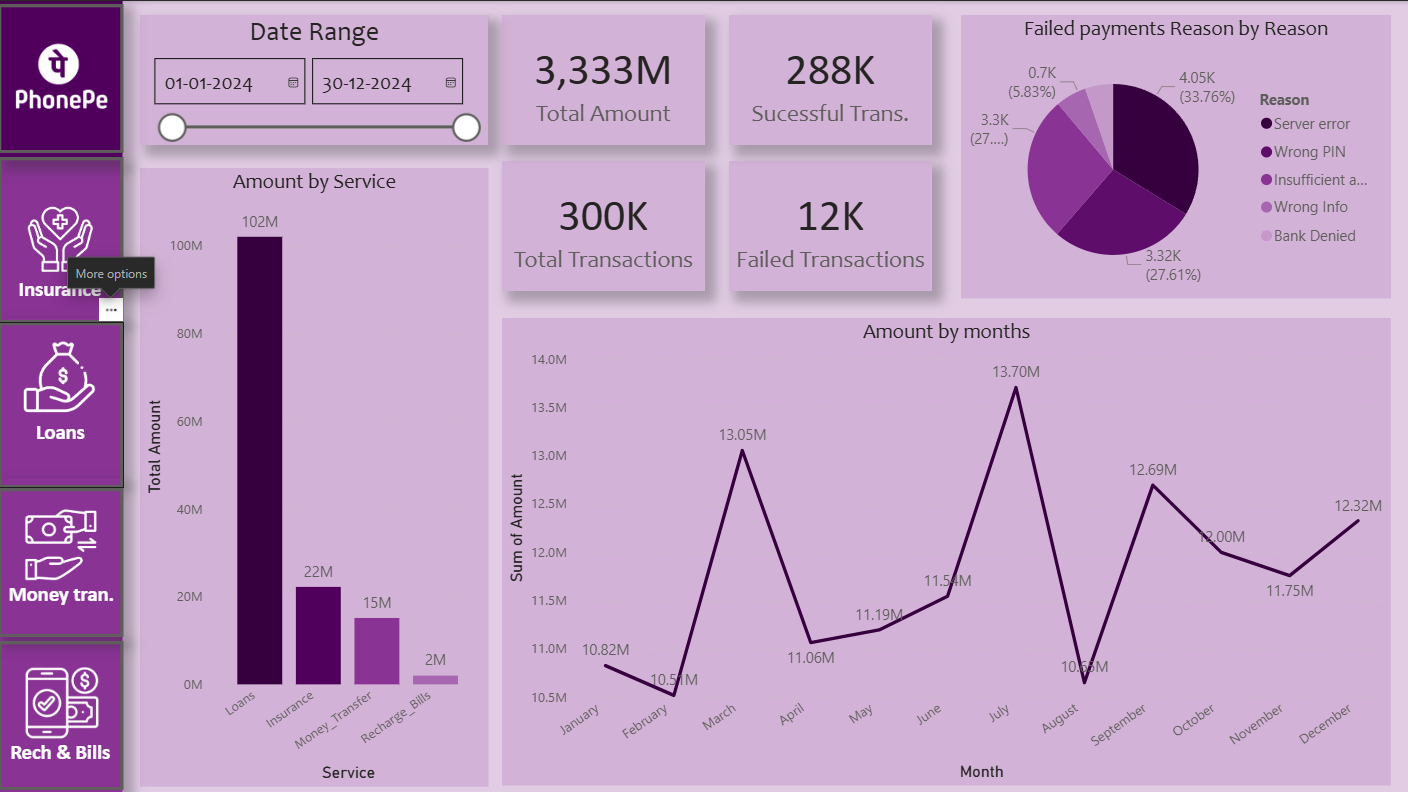

The dashboard page shown, as its layout file describes it:
{"tool":"powerbi","page":{"name":"Insurance","canvas":[1280,720],"ordinal":1},"visuals":[{"type":"shape","box":[0,0,113.1,144.1],"z":0,"group":"g1"},{"type":"shape","box":[0,576.4,113.1,144.1],"z":0},{"type":"image","box":[7.7,0,100,140],"z":1000,"group":"g1"},{"type":"shape","box":[0,144.1,113.1,144.1],"z":1000},{"type":"image","box":[15,585.1,86.6,102.8],"z":2000},{"type":"image","box":[15.3,164.8,82.4,101.6],"z":3000},{"type":"shape","box":[0,287.4,113.1,145.6],"z":4000},{"type":"textbox","box":[0,664.5,112.9,46.2],"z":5000},{"type":"image","box":[15.1,289.2,82.8,101.1],"z":6000},{"type":"shape","box":[0,432.3,113.1,144.1],"z":7000},{"type":"image","box":[15.1,441.9,82.8,102.2],"z":8000},{"type":"textbox","box":[0,244.9,112.2,46.9],"z":9000},{"type":"textbox","box":[0,374.2,112.9,46.2],"z":10000},{"type":"textbox","box":[1.1,521.5,112.9,45.2],"z":11000},{"type":"slicer","title":"Date Range","fields":{"Values":["Recharge_Bills.Date"]},"box":[128.6,12.2,316.3,118.4],"z":12000},{"type":"card","title":"Total Amount","fields":{"Values":["Sum(Insurance.Premium)"]},"box":[129.2,138.5,316.9,118.5],"z":13000},{"type":"pieChart","title":"Failed payments by Reason","fields":{"Category":["Insurance.Reason"],"Y":["CountNonNull(Insurance.Reason)"]},"box":[858.2,7.4,421.8,255],"z":14000},{"type":"areaChart","title":"Amount by months","fields":{"Category":["Insurance.Date.Variation.Date Hierarchy.Month"],"Y":["Sum(Insurance.Premium)"]},"box":[858.2,286.9,404.6,424.2],"z":15000},{"type":"group","id":"g1","title":"Group 1","box":[0,0,113.1,144.1],"z":16000},{"type":"actionButton","box":[0,139.1,114.5,150.7],"z":17000},{"type":"actionButton","box":[0,290.8,113.8,150.8],"z":18000},{"type":"actionButton","box":[0,441.5,113.8,135.4],"z":19000},{"type":"actionButton","box":[0,580,113.8,135.4],"z":20000},{"type":"actionButton","box":[0,1.4,114.5,136.2],"z":21000},{"type":"pieChart","title":"Payment Status","fields":{"Category":["Insurance.Payment_Status"],"Y":["CountNonNull(Insurance.Payment_Status)"]},"box":[456.1,12.3,385,245.2],"z":22000},{"type":"clusteredBarChart","title":"Amount by months","fields":{"Y":["Sum(Insurance.Premium)"],"Category":["Insurance.Insurance_Type"]},"box":[456.1,316.3,385,394.8],"z":23000},{"type":"image","box":[314.3,330,145.7,71.4],"z":24000},{"type":"image","box":[327.1,424.3,118.6,74.3],"z":25000},{"type":"image","box":[340.6,610.1,94.2,94.2],"z":26000},{"type":"image","box":[340,514.3,94.3,97.1],"z":27000},{"type":"textbox","box":[128.6,281,211.1,69.8],"z":28000},{"type":"card","title":"Total Amount","fields":{"Values":["Sum(Insurance.Premium)"]},"box":[147.6,334.9,166.7,63.5],"z":29000},{"type":"card","title":"Total Amount","fields":{"Values":["Sum(Insurance.Premium)"]},"box":[147.6,430.2,166.7,63.5],"z":30000},{"type":"card","title":"Total Amount","fields":{"Values":["Sum(Insurance.Premium)"]},"box":[147.6,534.9,166.7,63.5],"z":31000},{"type":"card","title":"Total Amount","fields":{"Values":["Sum(Insurance.Premium)"]},"box":[147.6,625.4,166.7,63.5],"z":32000},{"type":"textbox","box":[460,273.3,300,57.8],"z":33000},{"type":"textbox","box":[352.2,394.2,82.6,30.4],"z":34000},{"type":"textbox","box":[344.9,494.2,82.6,30.4],"z":35000},{"type":"textbox","box":[344.9,598.6,82.6,30.4],"z":36000},{"type":"textbox","box":[344.9,688.4,82.6,30.4],"z":37000}]}

Visuals, with their boxes on the page's 1280x720 design canvas (x1, y1, x2, y2). These are canvas units, not pixel positions in the 1408x792 screenshot, which may show the page scaled, cropped or inside an application window:
shape: (x1=0, y1=0, x2=113, y2=144)
shape: (x1=0, y1=576, x2=113, y2=720)
image: (x1=8, y1=0, x2=108, y2=140)
shape: (x1=0, y1=144, x2=113, y2=288)
image: (x1=15, y1=585, x2=102, y2=688)
image: (x1=15, y1=165, x2=98, y2=266)
shape: (x1=0, y1=287, x2=113, y2=433)
textbox: (x1=0, y1=664, x2=113, y2=711)
image: (x1=15, y1=289, x2=98, y2=390)
shape: (x1=0, y1=432, x2=113, y2=576)
image: (x1=15, y1=442, x2=98, y2=544)
textbox: (x1=0, y1=245, x2=112, y2=292)
textbox: (x1=0, y1=374, x2=113, y2=420)
textbox: (x1=1, y1=522, x2=114, y2=567)
"Date Range" slicer: (x1=129, y1=12, x2=445, y2=131)
"Total Amount" card: (x1=129, y1=138, x2=446, y2=257)
"Failed payments by Reason" pieChart: (x1=858, y1=7, x2=1280, y2=262)
"Amount by months" areaChart: (x1=858, y1=287, x2=1263, y2=711)
"Group 1" group: (x1=0, y1=0, x2=113, y2=144)
actionButton: (x1=0, y1=139, x2=114, y2=290)
actionButton: (x1=0, y1=291, x2=114, y2=442)
actionButton: (x1=0, y1=442, x2=114, y2=577)
actionButton: (x1=0, y1=580, x2=114, y2=715)
actionButton: (x1=0, y1=1, x2=114, y2=138)
"Payment Status" pieChart: (x1=456, y1=12, x2=841, y2=258)
"Amount by months" clusteredBarChart: (x1=456, y1=316, x2=841, y2=711)
image: (x1=314, y1=330, x2=460, y2=401)
image: (x1=327, y1=424, x2=446, y2=499)
image: (x1=341, y1=610, x2=435, y2=704)
image: (x1=340, y1=514, x2=434, y2=611)
textbox: (x1=129, y1=281, x2=340, y2=351)
"Total Amount" card: (x1=148, y1=335, x2=314, y2=398)
"Total Amount" card: (x1=148, y1=430, x2=314, y2=494)
"Total Amount" card: (x1=148, y1=535, x2=314, y2=598)
"Total Amount" card: (x1=148, y1=625, x2=314, y2=689)
textbox: (x1=460, y1=273, x2=760, y2=331)
textbox: (x1=352, y1=394, x2=435, y2=425)
textbox: (x1=345, y1=494, x2=428, y2=525)
textbox: (x1=345, y1=599, x2=428, y2=629)
textbox: (x1=345, y1=688, x2=428, y2=719)
